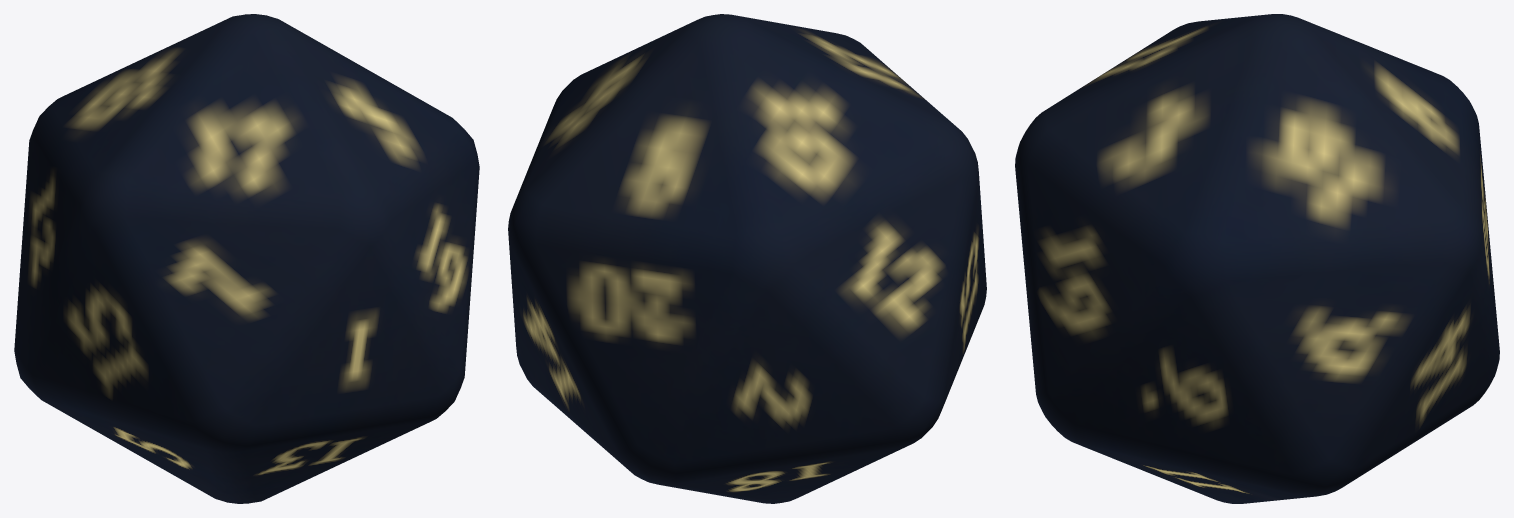
3 renders of one model, left to right at view 1: azimuth 30°, elevation 25°; view 2: azimuth 150°, elevation 25°; view 3: azimuth 270°, elevation 25°, orthographic. The views are drawn at different scales.
Parts seen in each view (by area): view 1: D20_LP; view 2: D20_LP; view 3: D20_LP.
Boxes of the visible parts, x1,y1,x2,y2 form: D20_LP: [14, 14, 479, 503]; D20_LP: [508, 14, 986, 503]; D20_LP: [1015, 14, 1499, 503].
Bounding box in the file's own units: 0.0121 × 0.0132 × 0.0117.
Materials: 1 (1 with a texture image).
